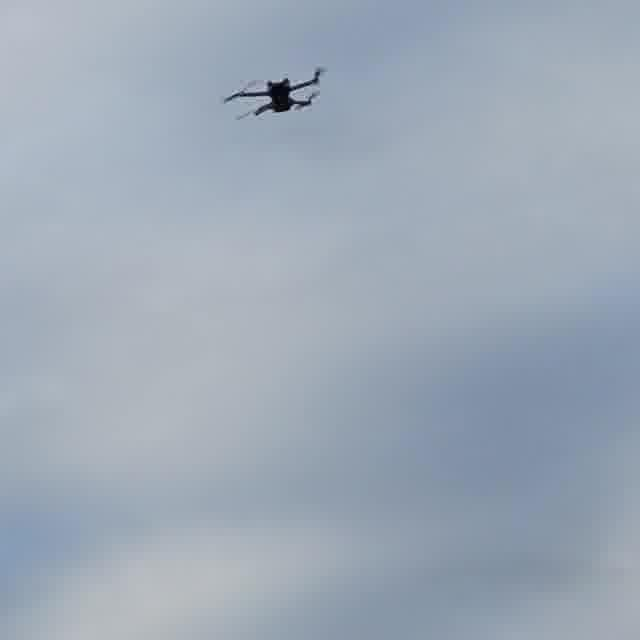Drohne: (224, 68, 323, 117)
